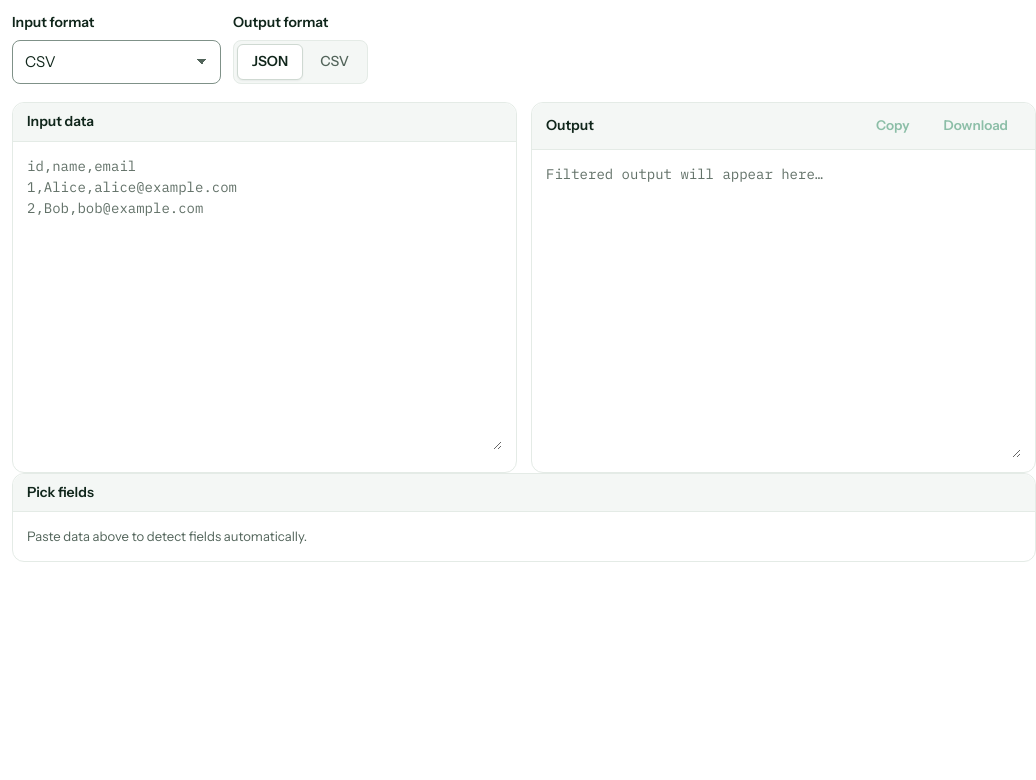
DataPicker › shows a parse error for invalid JSON input
Select "JSON (array of objects)" in the dropdown at (116,62), box [12,40,221,84]
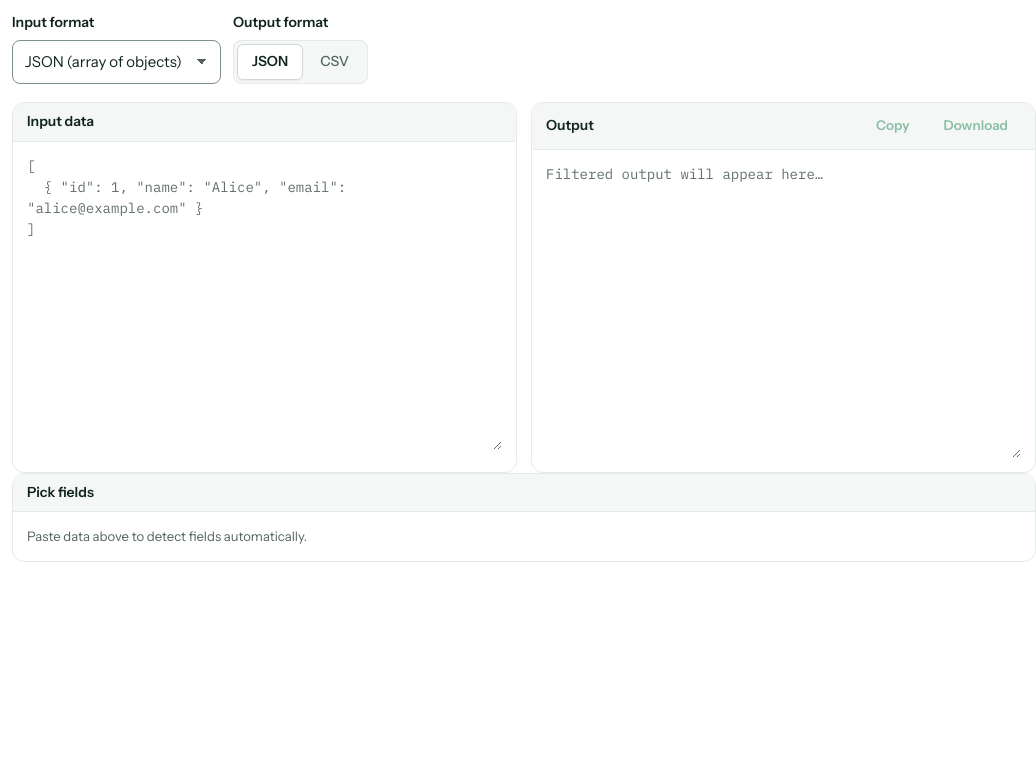
Replace the text in the 1st text box with "not valid json" at (264,303), box [27,156,502,450]
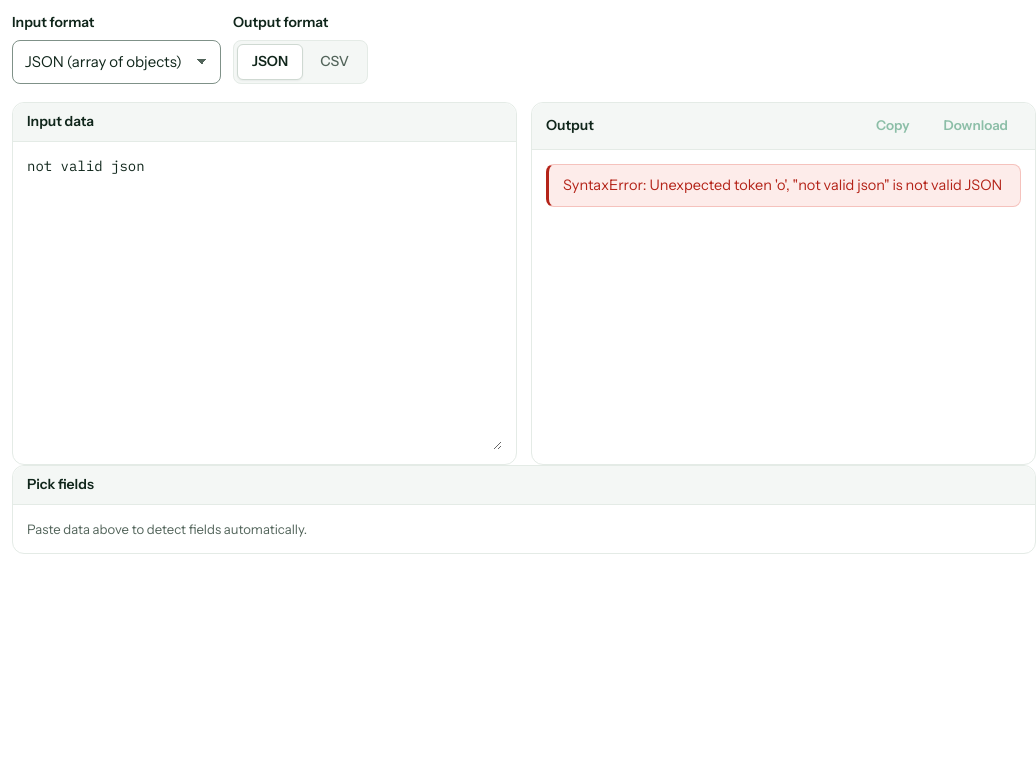
expect the text "SyntaxError" is shown: met, box [563,176,1002,194]
